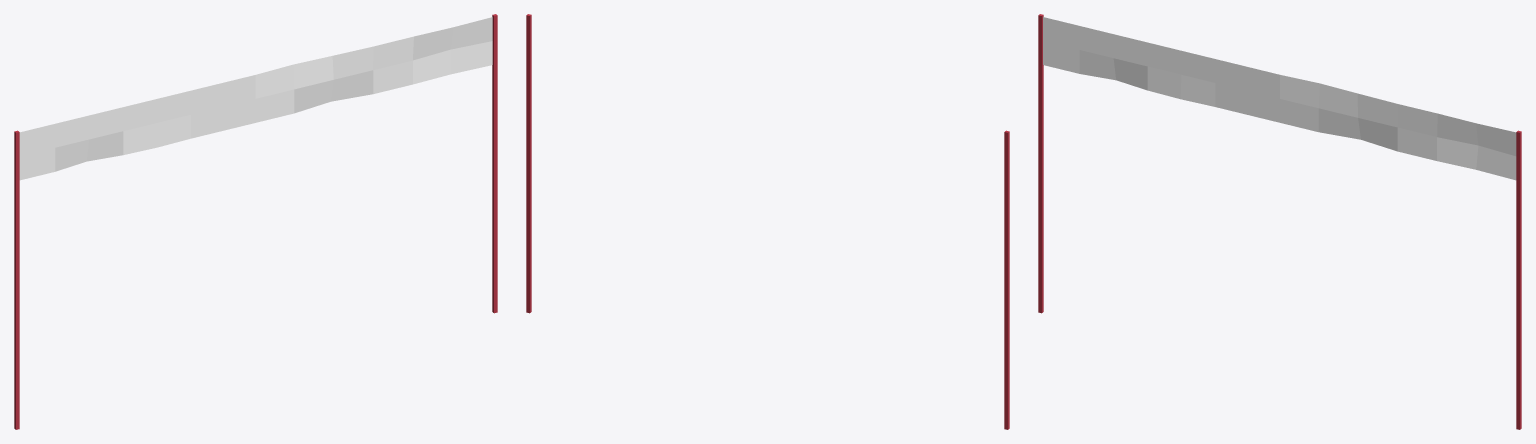
Rendered from banner.gltf.
The picture shows the model from 3 angles, left to right: view 1: azimuth 30°, elevation 25°; view 2: azimuth 150°, elevation 25°; view 3: azimuth 330°, elevation 25°; orthographic projection.
Visible parts, largest first — view 1: Cube.006; view 2: Cube.006; view 3: Cube.006.
Part boxes in pixels (box(x1,y1,x2,y2)): Cube.006: box(14, 14, 497, 429); Cube.006: box(526, 14, 1009, 429); Cube.006: box(1038, 14, 1521, 429).
Bounding box in the file's own units: 5.05 × 2.98 × 0.0718.
